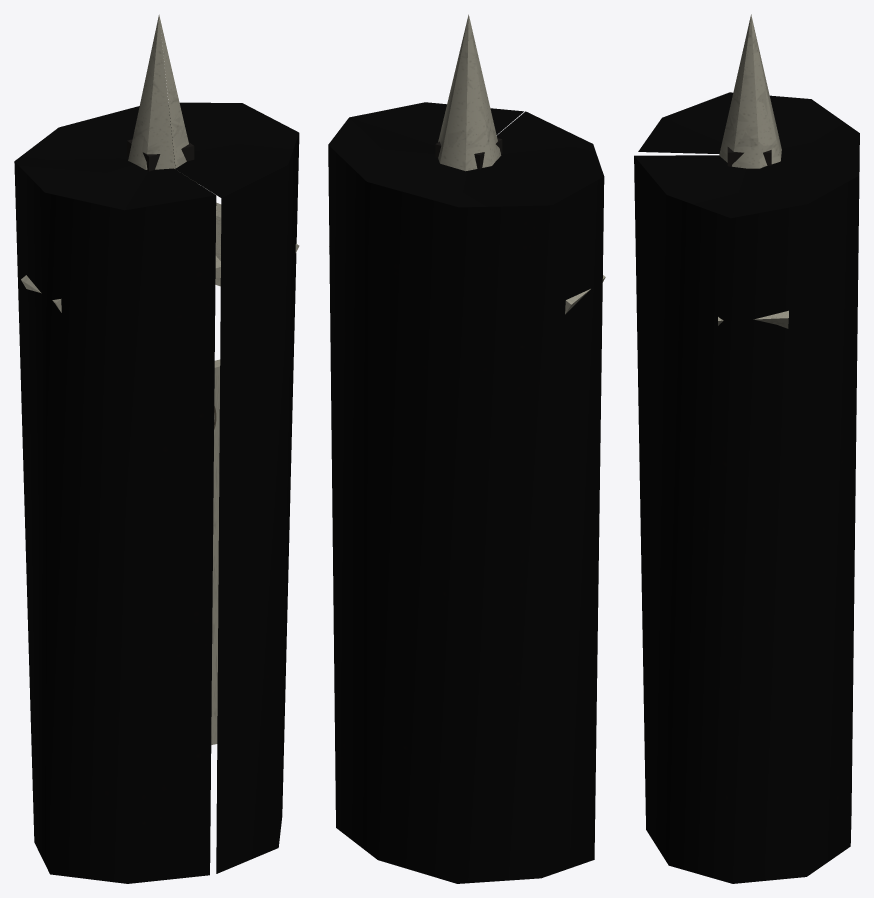
File: character-comparison-sentinel-stone-v1.glb
The picture shows the model from 3 angles, left to right: view 1: azimuth 30°, elevation 25°; view 2: azimuth 150°, elevation 25°; view 3: azimuth 270°, elevation 25°; orthographic projection.
Visible parts, largest first — view 1: Sentinel stone; view 2: Sentinel stone; view 3: Sentinel stone.
Boxes of the visible parts, x1,y1,x2,y2 form: Sentinel stone: [14, 14, 299, 883]; Sentinel stone: [328, 14, 605, 883]; Sentinel stone: [634, 14, 859, 883].
Size of the model in its own units: 2.27 by 7 by 1.76.
Materials: 4 (3 with a texture image).
